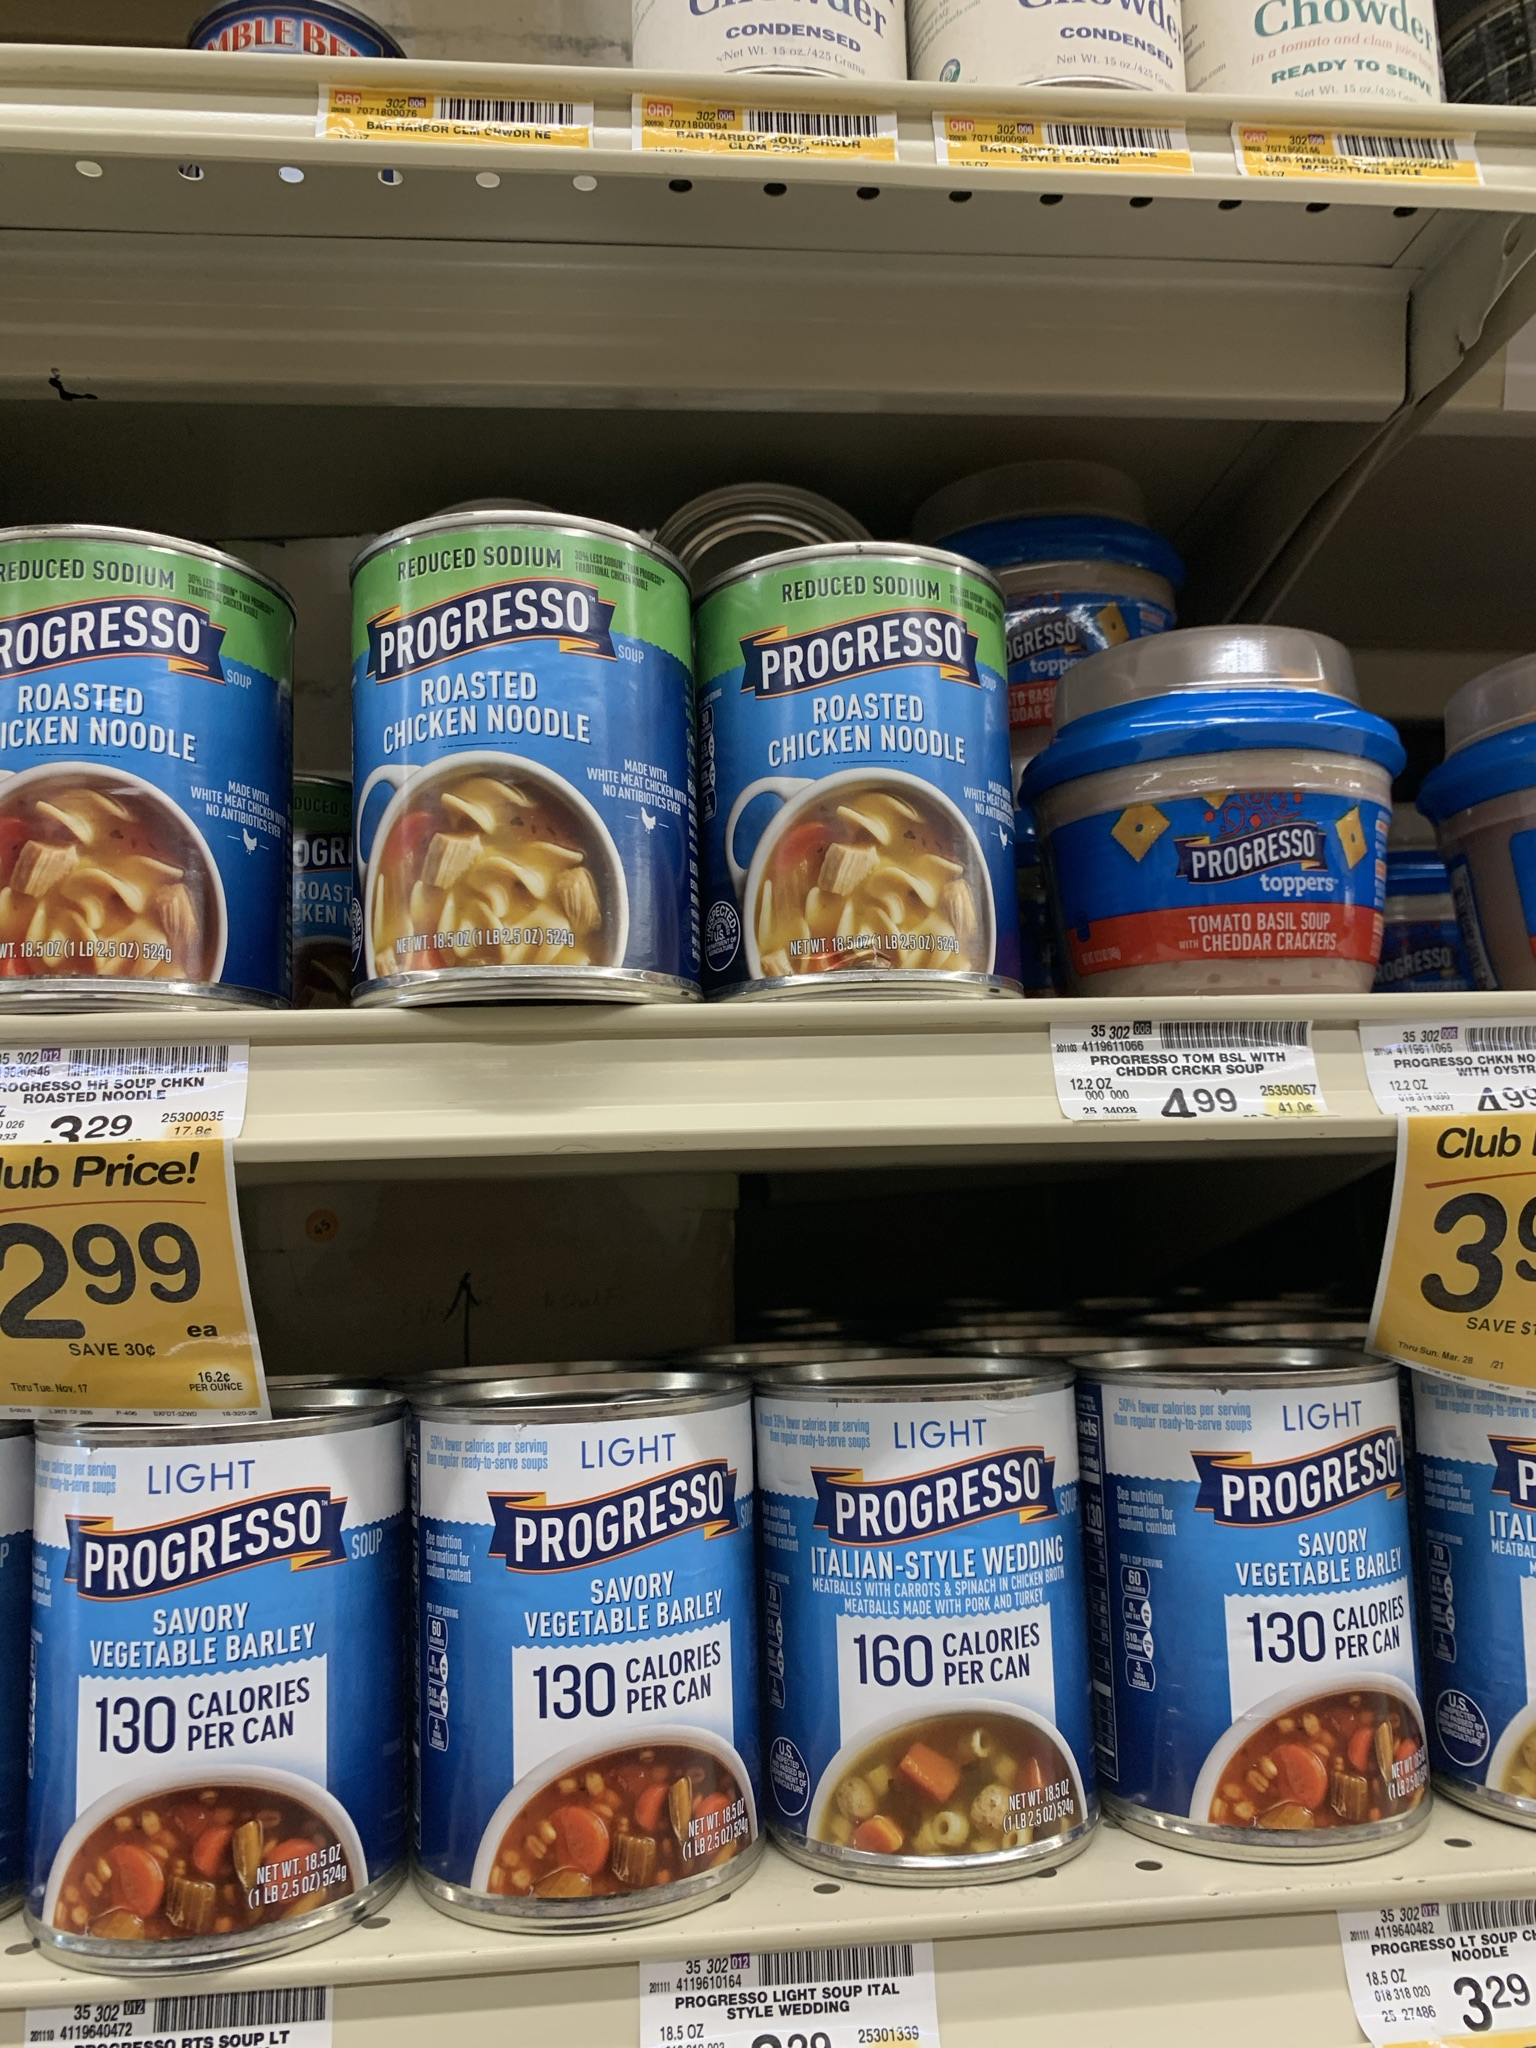can: (350, 506, 695, 1011), (32, 1424, 360, 1921), (411, 1405, 739, 1887), (771, 1380, 1086, 1863), (1117, 1371, 1420, 1850), (695, 540, 1012, 998), (2, 522, 290, 1006), (1029, 626, 1407, 995)
